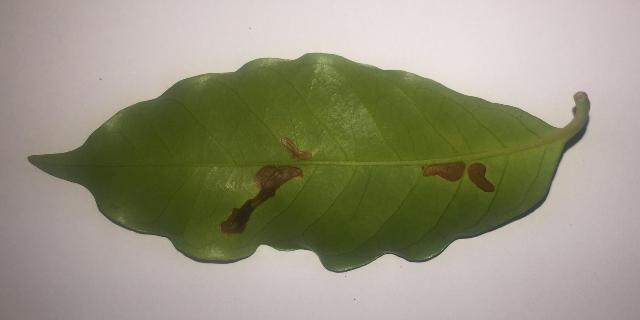cercospora: (220, 165, 304, 235), (422, 162, 495, 192), (281, 138, 312, 160)
